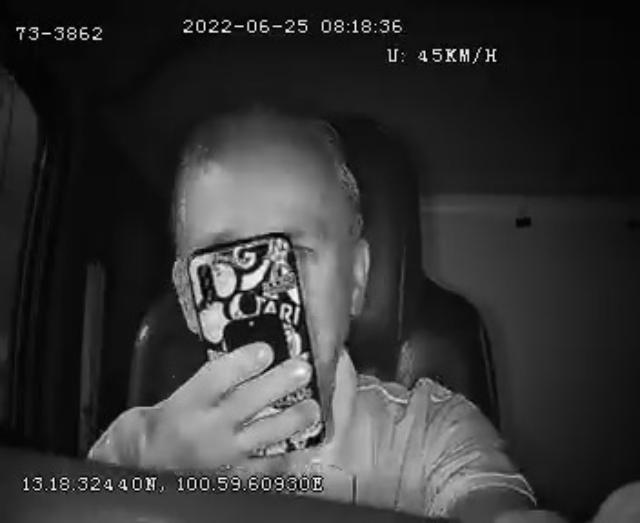Phone: (190, 232, 324, 456)
